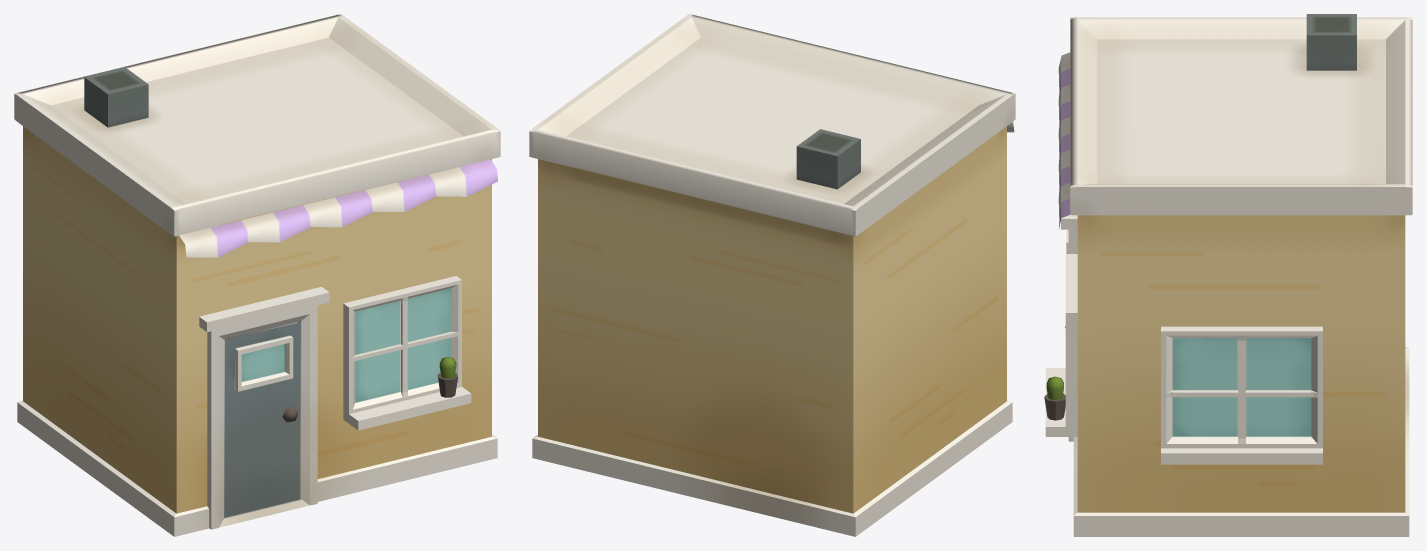
File: house_5.fbx
3 renders of one model, left to right at view 1: azimuth 30°, elevation 25°; view 2: azimuth 150°, elevation 25°; view 3: azimuth 270°, elevation 25°, orthographic. The views are drawn at different scales.
Visible parts, largest first — view 1: house5; view 2: house5; view 3: house5.
Part boxes in pixels (bbox=[...]): house5: bbox=[14, 14, 500, 536]; house5: bbox=[529, 14, 1015, 536]; house5: bbox=[1044, 14, 1412, 536].
Size of the model in its own units: 5.25 by 5.22 by 4.63.
